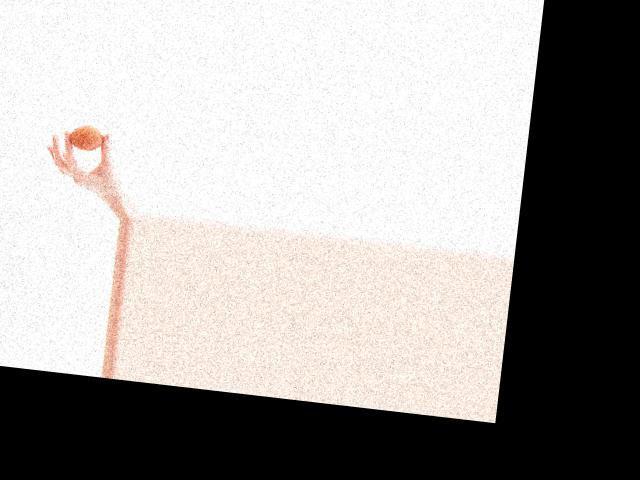egg: (68, 123, 105, 151)
